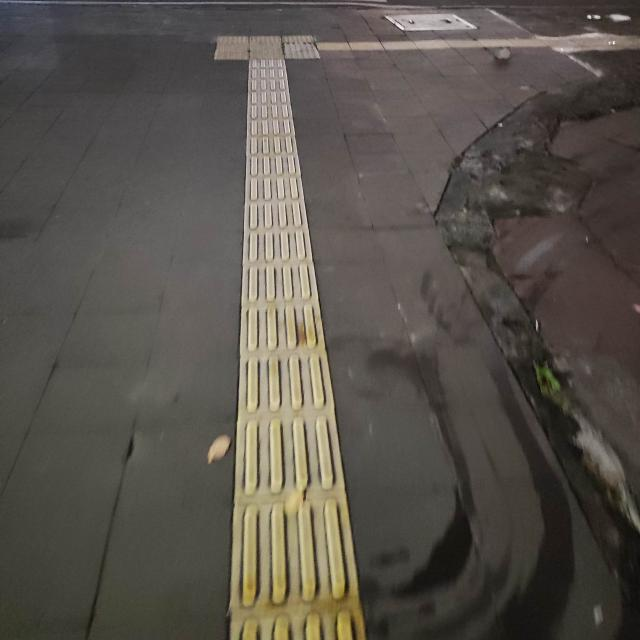kanan: (201, 22, 406, 78)
